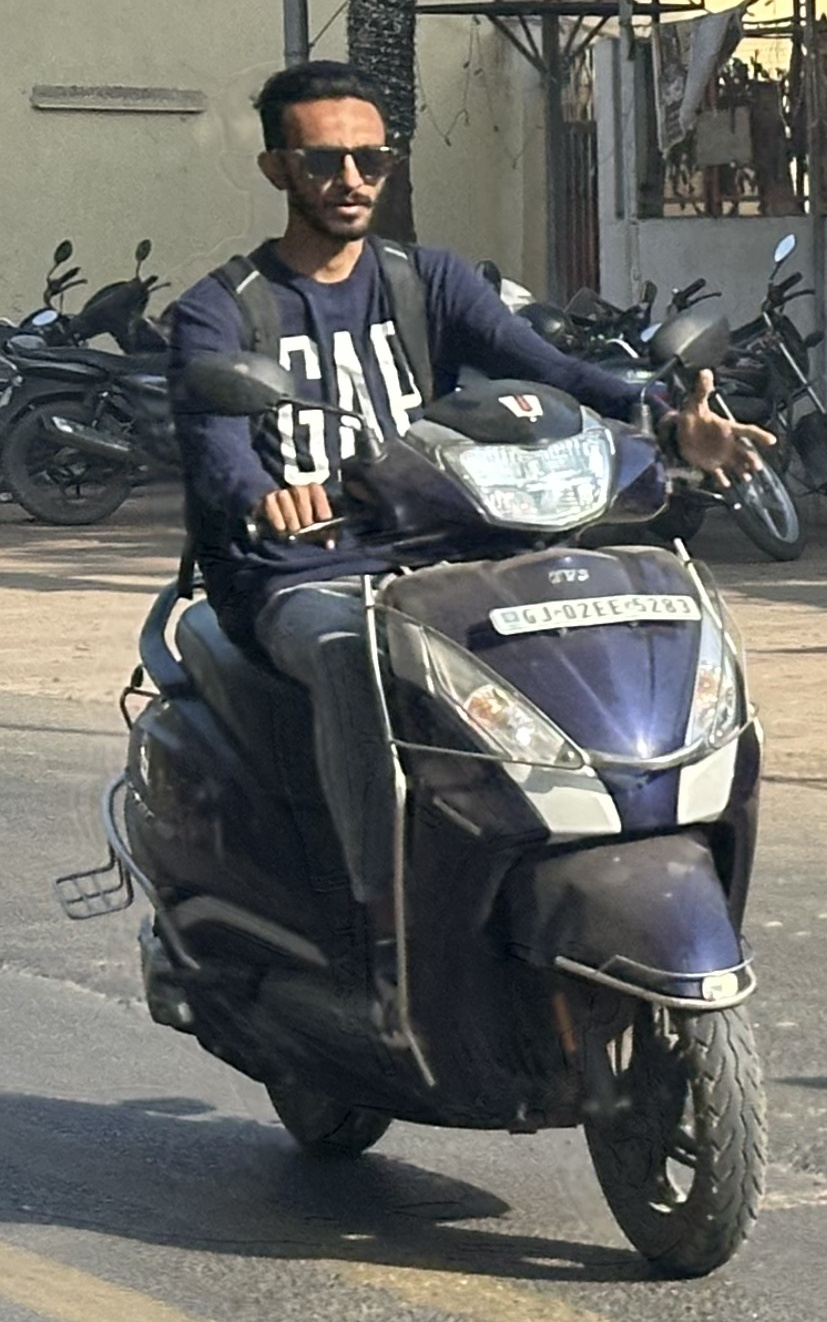BikeWithRider: (42, 44, 787, 1288)
NoHelmet: (245, 48, 410, 252)
